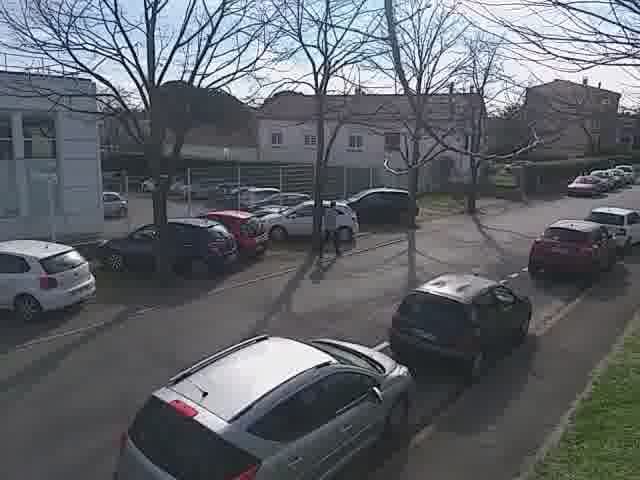persona: (315, 195, 348, 262)
